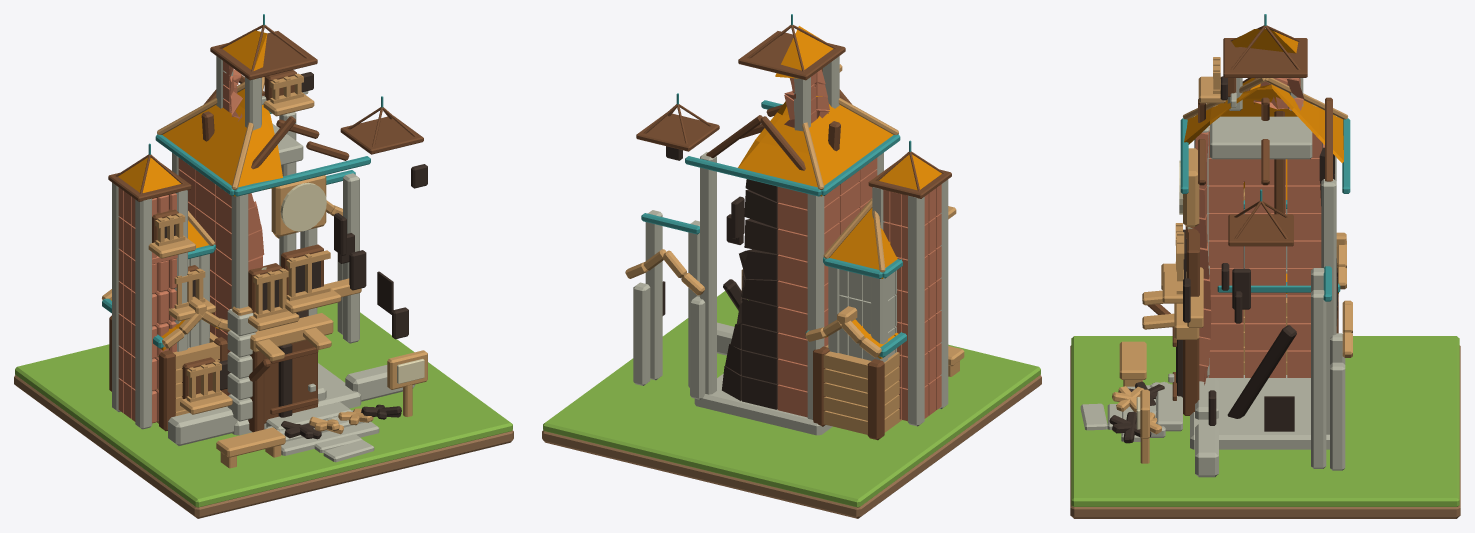
Rendered from town_hall_l09_damaged_LOD0.glb.
3 views of the same model, side by side, from view 1: azimuth 30°, elevation 25°; view 2: azimuth 150°, elevation 25°; view 3: azimuth 270°, elevation 25° (orthographic). The views are drawn at different scales.
Parts seen in each view (by area): view 1: town_hall_l09_damaged_grass_tile, town_hall_l09_damaged_earth_tile, town_hall_l09_damaged_corner_reinforcement.024, town_hall_l09_damaged_hip_roof_shingle.011, town_hall_l09_damaged_door_recess, town_hall_l09_damaged_central_spire_cornice, town_hall_l09_damaged_corner_reinforcement, town_hall_l09_damaged_corner_reinforcement.019, town_hall_l09_damaged_stone_foundation_course, town_hall_l09_damaged_right_spire_cornice, town_hall_l09_damaged_clock_face, town_hall_l09_damaged_corner_reinforcement.025 (+35 smaller); view 2: town_hall_l09_damaged_grass_tile, town_hall_l09_damaged_earth_tile, town_hall_l09_damaged_corner_reinforcement.025, town_hall_l09_damaged_corner_reinforcement.003, town_hall_l09_damaged_corner_reinforcement.001, town_hall_l09_damaged_hip_roof_shingle.011, town_hall_l09_damaged_foundation, town_hall_l09_damaged_corner_reinforcement.019, town_hall_l09_damaged_hip_roof_shingle.008, town_hall_l09_damaged_central_spire_cornice, town_hall_l09_damaged_right_spire_cornice, town_hall_l09_damaged_corner_reinforcement.024 (+40 smaller); view 3: town_hall_l09_damaged_grass_tile, town_hall_l09_damaged_foundation, town_hall_l09_damaged_earth_tile, town_hall_l09_damaged_surviving_tower_course, town_hall_l09_damaged_corner_reinforcement.019, town_hall_l09_damaged_central_spire_cornice, town_hall_l09_damaged_corner_reinforcement.003, town_hall_l09_damaged_right_spire_cornice, town_hall_l09_damaged_corner_reinforcement.011, town_hall_l09_damaged_collapsed_roof_beam, town_hall_l09_damaged_stone_foundation_course.002, town_hall_l09_damaged_door_recess (+46 smaller).
Part boxes in pixels (box(x1,y1,x2,y2)): town_hall_l09_damaged_grass_tile: box(15, 302, 512, 507); town_hall_l09_damaged_earth_tile: box(14, 375, 513, 518); town_hall_l09_damaged_corner_reinforcement.024: box(135, 198, 152, 429); town_hall_l09_damaged_hip_roof_shingle.011: box(162, 117, 240, 195); town_hall_l09_damaged_door_recess: box(264, 340, 317, 423); town_hall_l09_damaged_central_spire_cornice: box(210, 31, 317, 80); town_hall_l09_damaged_corner_reinforcement: box(231, 194, 248, 420); town_hall_l09_damaged_corner_reinforcement.019: box(343, 173, 359, 343); town_hall_l09_damaged_stone_foundation_course: box(168, 406, 236, 445); town_hall_l09_damaged_right_spire_cornice: box(340, 116, 423, 154); town_hall_l09_damaged_clock_face: box(280, 182, 326, 231); town_hall_l09_damaged_corner_reinforcement.025: box(112, 182, 120, 412); town_hall_l09_damaged_grass_tile: box(543, 291, 1040, 507); town_hall_l09_damaged_earth_tile: box(542, 375, 1041, 518); town_hall_l09_damaged_corner_reinforcement.025: box(907, 195, 924, 426); town_hall_l09_damaged_corner_reinforcement.003: box(700, 152, 716, 394); town_hall_l09_damaged_corner_reinforcement.001: box(807, 194, 824, 419); town_hall_l09_damaged_hip_roof_shingle.011: box(815, 117, 893, 195); town_hall_l09_damaged_foundation: box(694, 373, 832, 435); town_hall_l09_damaged_corner_reinforcement.019: box(645, 210, 662, 380); town_hall_l09_damaged_hip_roof_shingle.008: box(738, 140, 821, 196); town_hall_l09_damaged_central_spire_cornice: box(738, 31, 845, 80); town_hall_l09_damaged_right_spire_cornice: box(636, 112, 719, 151); town_hall_l09_damaged_corner_reinforcement.024: box(939, 179, 948, 409); town_hall_l09_damaged_grass_tile: box(1071, 336, 1459, 506); town_hall_l09_damaged_foundation: box(1190, 375, 1329, 449); town_hall_l09_damaged_earth_tile: box(1070, 345, 1460, 518); town_hall_l09_damaged_surviving_tower_course: box(1210, 116, 1312, 159); town_hall_l09_damaged_corner_reinforcement.019: box(1311, 290, 1326, 468); town_hall_l09_damaged_central_spire_cornice: box(1223, 38, 1307, 77); town_hall_l09_damaged_corner_reinforcement.003: box(1321, 179, 1336, 434); town_hall_l09_damaged_right_spire_cornice: box(1228, 214, 1293, 246); town_hall_l09_damaged_corner_reinforcement.011: box(1330, 362, 1345, 470); town_hall_l09_damaged_collapsed_roof_beam: box(1227, 325, 1296, 418); town_hall_l09_damaged_stone_foundation_course.002: box(1195, 424, 1218, 477); town_hall_l09_damaged_door_recess: box(1183, 338, 1199, 415).
Bounding box in the file's own units: 3.6 × 4.31 × 3.6.
